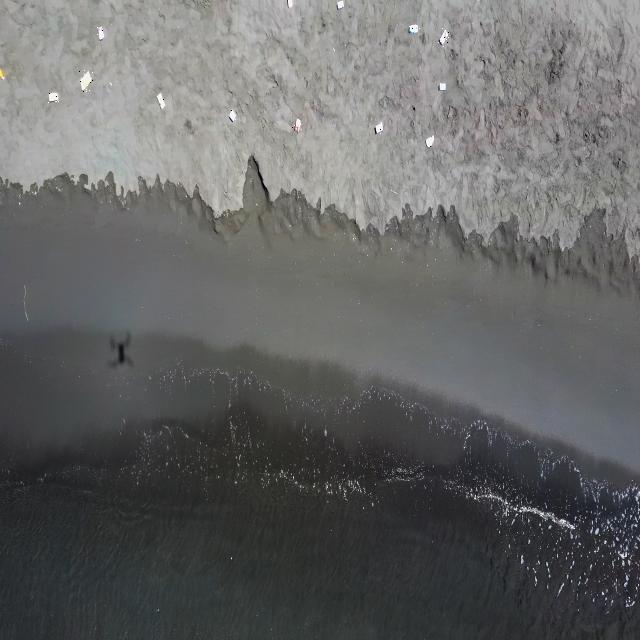Garbage: (80, 71, 91, 91), (439, 28, 448, 45), (23, 283, 27, 320), (156, 92, 163, 108), (424, 136, 433, 147), (96, 26, 103, 40), (292, 119, 300, 131), (228, 108, 236, 120), (373, 123, 382, 132), (48, 91, 56, 101), (408, 24, 417, 32), (437, 81, 446, 89), (336, 0, 343, 8), (0, 68, 4, 79), (287, 0, 292, 7)
